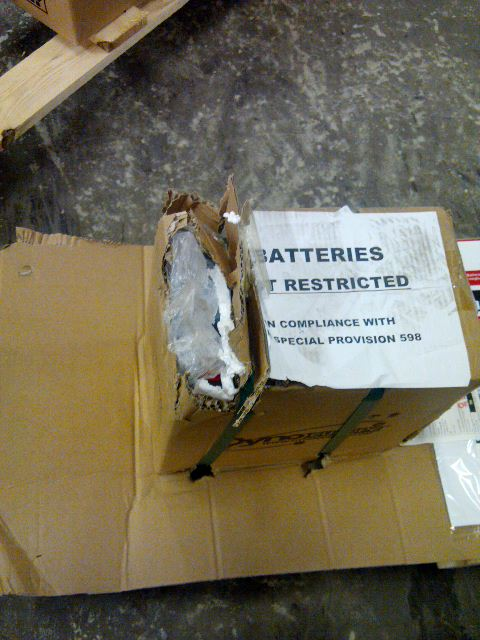label: (240, 211, 470, 391)
package: (139, 207, 480, 471)
